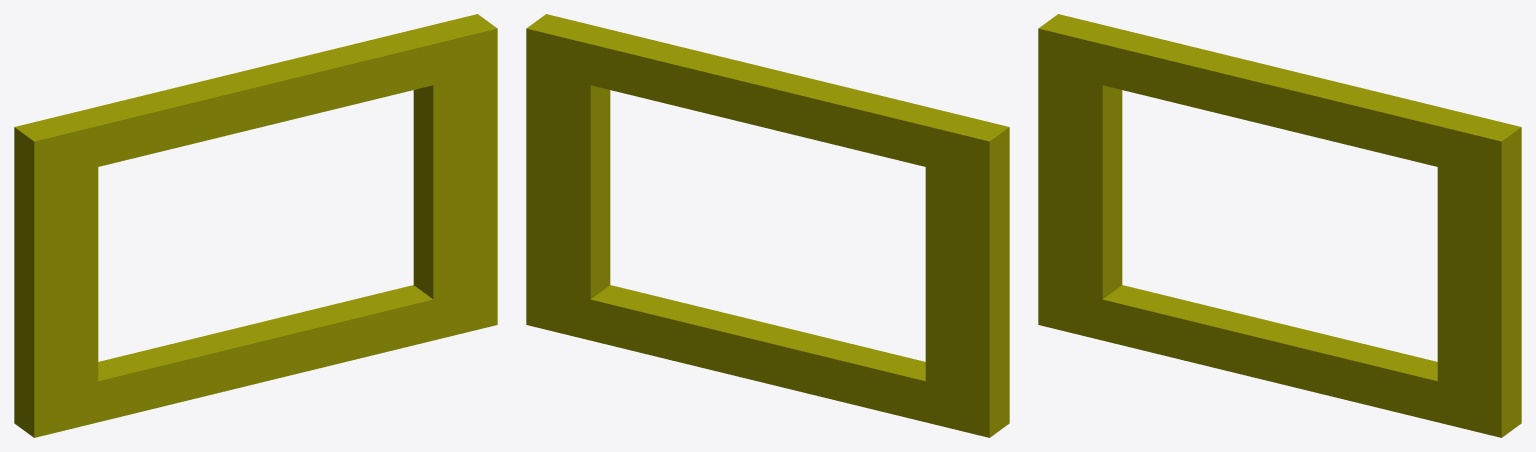
The model's file is Exit1.OBJ.
3 views of the same model, side by side, from view 1: azimuth 30°, elevation 25°; view 2: azimuth 150°, elevation 25°; view 3: azimuth 330°, elevation 25° (orthographic).
Parts seen in each view (by area): view 1: /ambf/env/Exit1_Exit1_Cube.011; view 2: /ambf/env/Exit1_Exit1_Cube.011; view 3: /ambf/env/Exit1_Exit1_Cube.011.
Boxes of the visible parts, box(x1,y1,x2,y2) form: /ambf/env/Exit1_Exit1_Cube.011: box(14, 14, 497, 437); /ambf/env/Exit1_Exit1_Cube.011: box(526, 14, 1009, 437); /ambf/env/Exit1_Exit1_Cube.011: box(1038, 14, 1521, 437).
Size of the model in its own units: 0.00593 by 0.00362 by 0.00044.
Materials: 1 (1 with a texture image).
